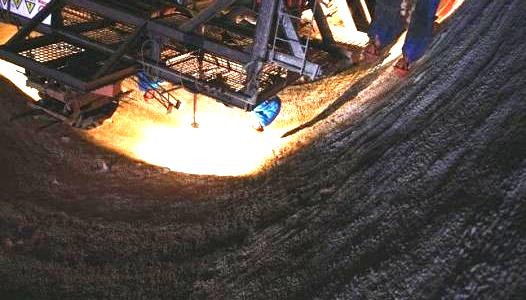helmet: (362, 44, 380, 65), (392, 58, 410, 79), (143, 90, 155, 105), (253, 123, 264, 134)
